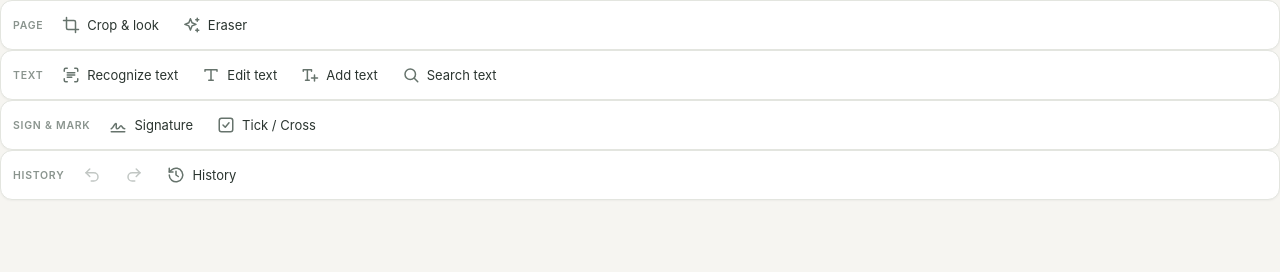
Test: EditToolbarComponent › history says so when a page has no saved changes
The image size is (1280, 272).
Click the button "History": (202, 175) [156,155,247,195]
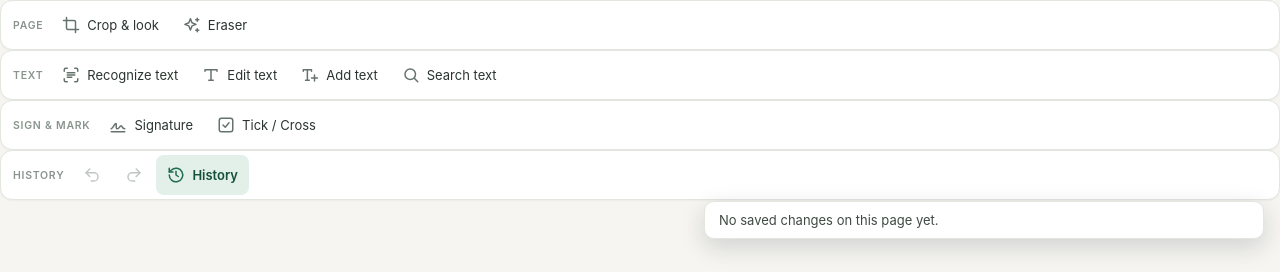
Now the text "No saved changes on this page yet." is shown, box [719,212,939,228]
